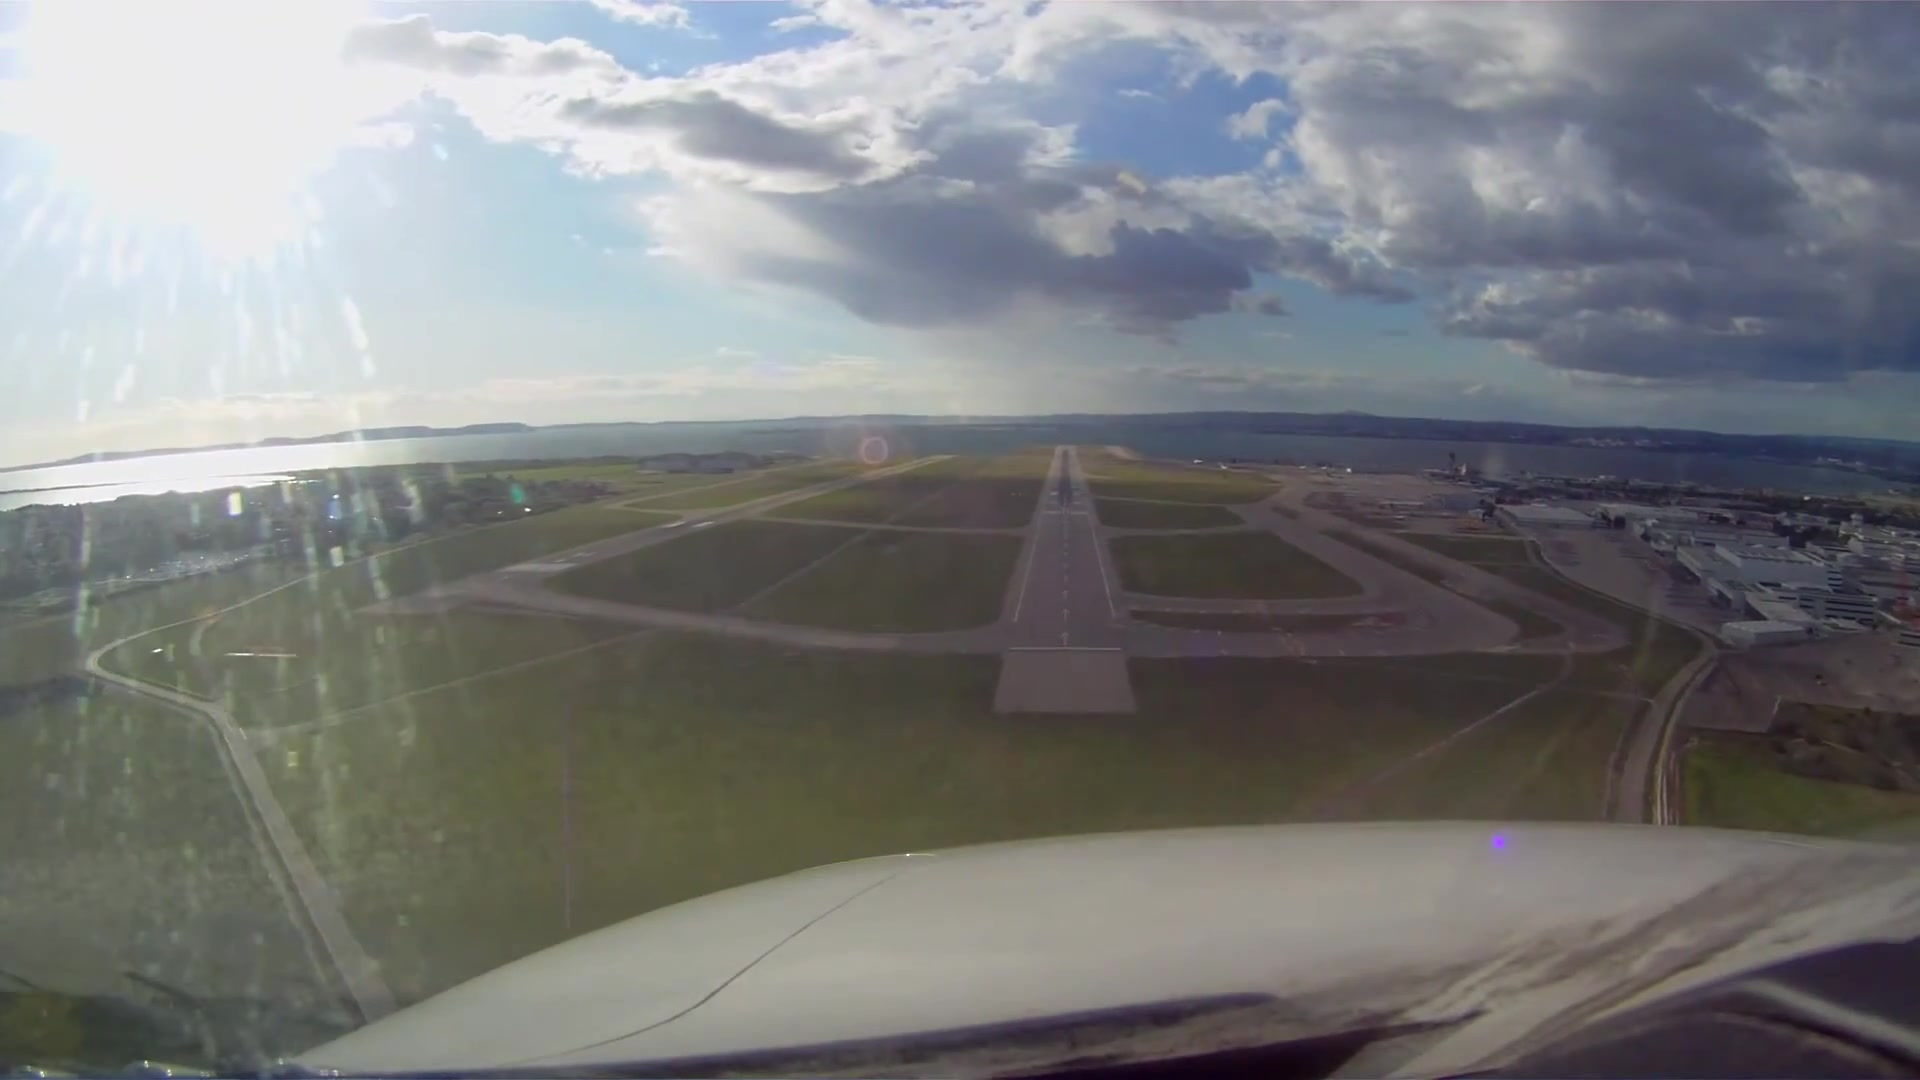runway: (1000, 439, 1131, 659)
